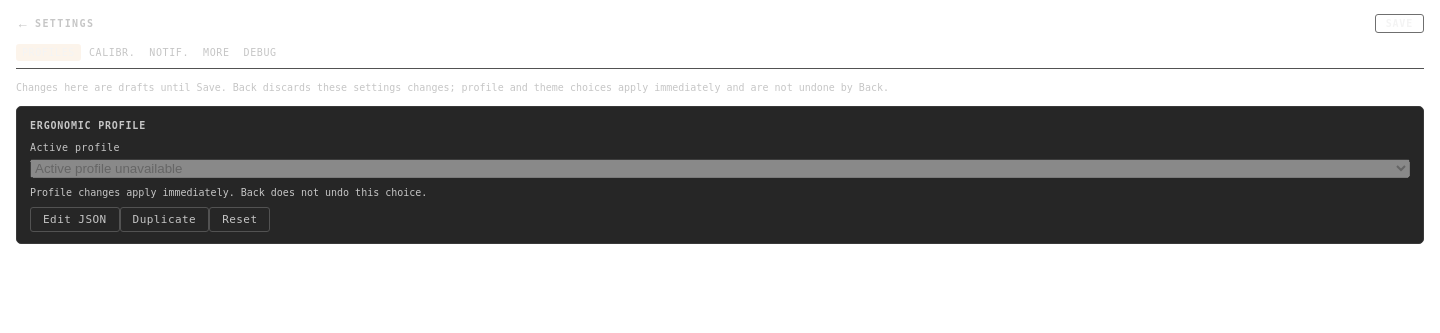
it: SettingsPanel › switches to Calibration tab on click
Check: the heading "Ergonomic Profile" is shown, box [30,120,146,131]
What coordinates should you click on to do the following:
click the tab "Calibr."
I would click on:
 (112, 52)
Its box is [83,44,141,61].
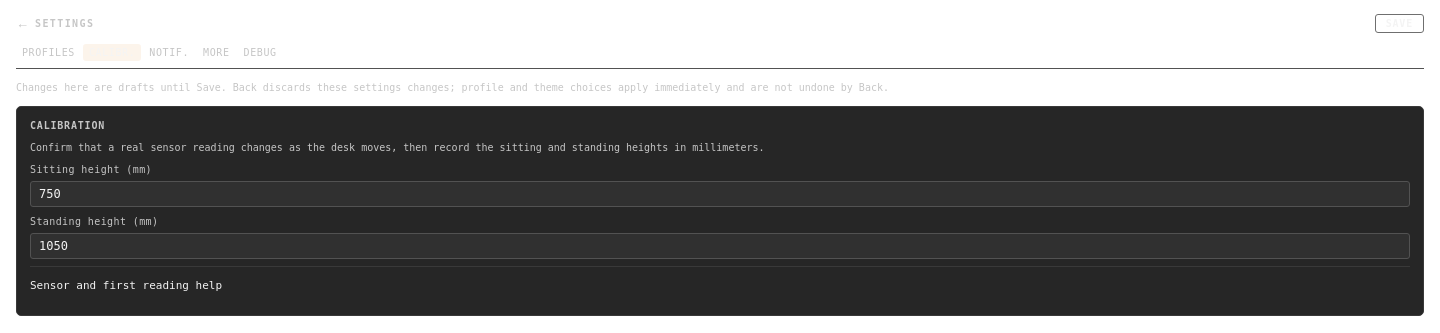
Check: the heading "Ergonomic Profile" is gone
